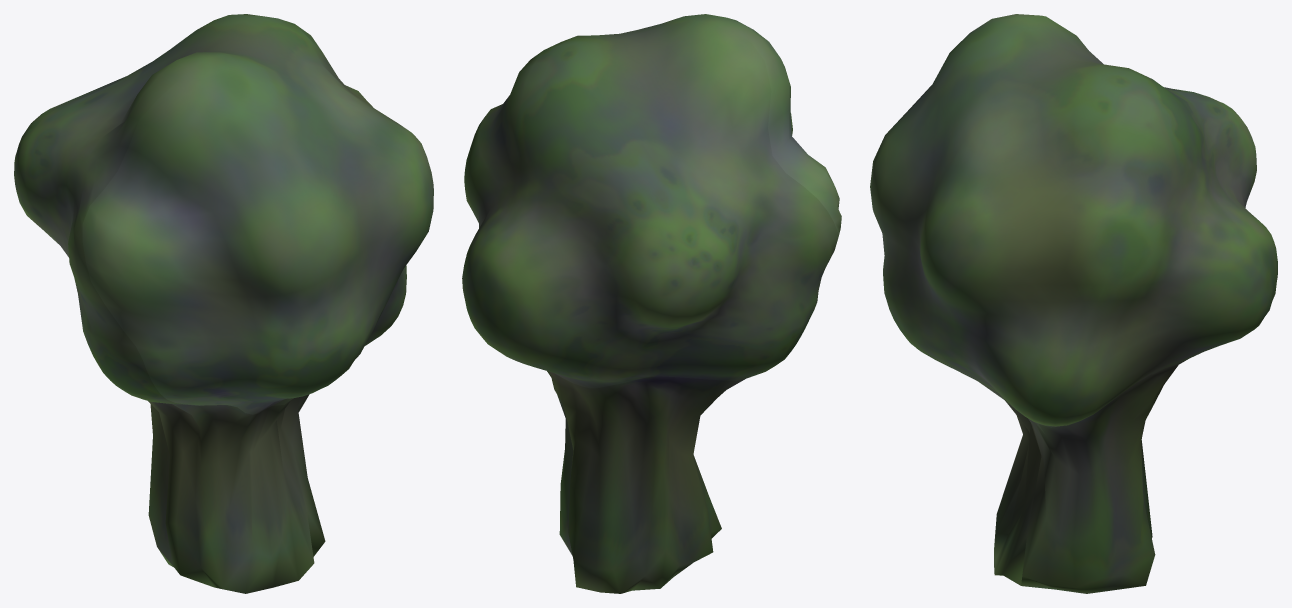
Rendered from Broccoli.fbx.
3 renders of one model, left to right at view 1: azimuth 30°, elevation 25°; view 2: azimuth 150°, elevation 25°; view 3: azimuth 270°, elevation 25°, orthographic. The views are drawn at different scales.
Visible parts, largest first — view 1: Broccoli; view 2: Broccoli; view 3: Broccoli.
Boxes of the visible parts, <box> form: Broccoli: <box>14,14,433,593</box>; Broccoli: <box>462,14,841,593</box>; Broccoli: <box>870,14,1277,593</box>.
Bounding box in the file's own units: 1.86 × 2.94 × 2.03.
Materials: 1 (1 with a texture image).
